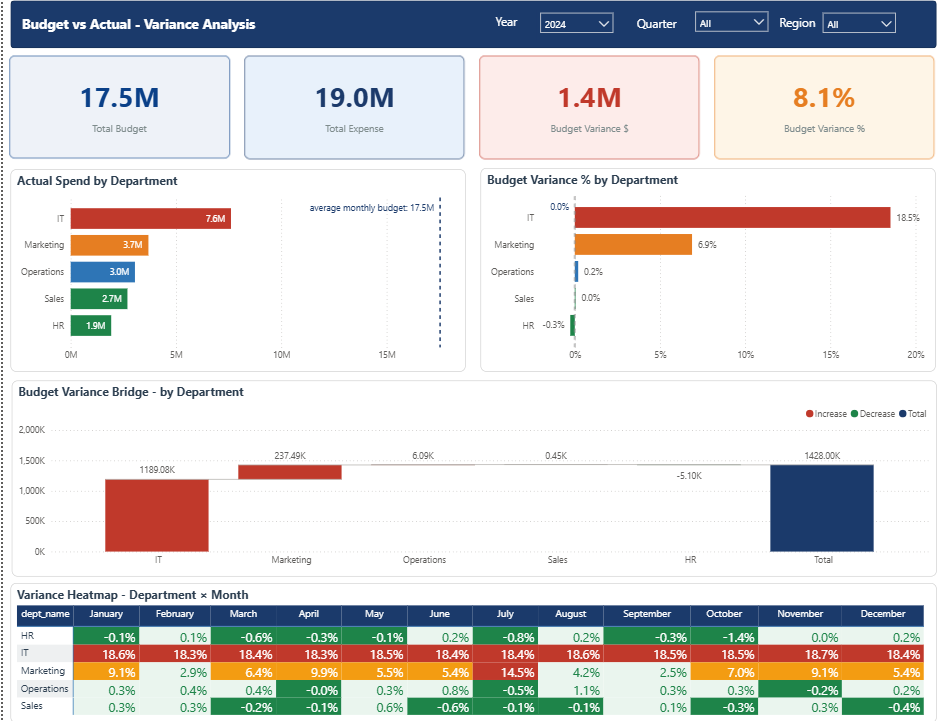

The page's visual inventory and layout, read from the dashboard file:
{"tool":"powerbi","page":{"name":"Budget vs Actual","canvas":[1280,1000],"ordinal":2},"visuals":[{"type":"shape","box":[9.8,11,1258.3,64.8],"z":0},{"type":"textbox","box":[20.4,23.8,441.6,40.8],"z":1000},{"type":"slicer","fields":{"Values":["production dim_date.year"]},"box":[725.2,22.1,108.7,44.2],"z":2000},{"type":"textbox","box":[664.1,22.1,61.1,34],"z":3000},{"type":"slicer","fields":{"Values":["production dim_region.region_name"]},"box":[1109.1,22,108.8,44],"z":4000},{"type":"textbox","box":[1049.2,24.5,62.4,33],"z":5000},{"type":"advanceCardE03760C5AB684758B56AA29F9E6C257B","fields":{"mainMeasure":["_Measures.Total Budget"]},"box":[8.4,84.3,300,140],"z":6000},{"type":"advanceCardE03760C5AB684758B56AA29F9E6C257B","title":"Total Actual Spend","fields":{"mainMeasure":["_Measures.Total Expense"]},"box":[328.2,84.3,299.6,140.6],"z":7000},{"type":"advanceCardE03760C5AB684758B56AA29F9E6C257B","fields":{"mainMeasure":["_Measures.Budget Variance $"]},"box":[647.6,84.3,299.6,140.6],"z":8000},{"type":"advanceCardE03760C5AB684758B56AA29F9E6C257B","fields":{"mainMeasure":["_Measures.Budget Variance %"]},"box":[967.1,84.3,299.6,140.6],"z":9000},{"type":"clusteredBarChart","title":"Actual Spend by Department","fields":{"Category":["production dim_department.dept_name"],"Y":["_Measures.Total Expense"]},"box":[10.2,239.5,618.2,275.1],"z":10000},{"type":"slicer","fields":{"Values":["production dim_date.quarter_name"]},"box":[936.6,19.9,108.8,44],"z":11000},{"type":"textbox","box":[856,25.5,79.8,32.3],"z":12000},{"type":"clusteredBarChart","title":"Budget Variance % by Department","fields":{"Category":["production dim_department.dept_name"],"Y":["_Measures.Budget Variance %"]},"box":[648.8,237.8,618.2,276.8],"z":13000},{"type":"pivotTable","title":"Variance Heatmap - Department × Month","fields":{"Rows":["production dim_department.dept_name"],"Columns":["production dim_date.month_name"],"Values":["_Measures.Budget Variance %"]},"box":[10.2,801.6,1258.5,190.2],"z":14000},{"type":"waterfallChart","title":"Budget Variance Bridge - by Department","fields":{"Category":["production dim_department.dept_name"],"Y":["_Measures.Budget Variance $"]},"box":[11.9,526.5,1256.8,266.6],"z":14001}]}

Visuals, with their boxes in screenshot pixels (x1, y1, x2, y2), scaled from the page's 1280x1000 canvas onto the 942x721 screenshot:
shape: [7, 8, 933, 55]
textbox: [15, 17, 340, 47]
slicer - production dim_date.year: [534, 16, 614, 48]
textbox: [489, 16, 534, 40]
slicer - production dim_region.region_name: [816, 16, 896, 48]
textbox: [772, 18, 818, 41]
advanceCardE03760C5AB684758B56AA29F9E6C257B - _Measures.Total Budget: [6, 61, 227, 162]
"Total Actual Spend" advanceCardE03760C5AB684758B56AA29F9E6C257B: [242, 61, 462, 162]
advanceCardE03760C5AB684758B56AA29F9E6C257B - _Measures.Budget Variance $: [477, 61, 697, 162]
advanceCardE03760C5AB684758B56AA29F9E6C257B - _Measures.Budget Variance %: [712, 61, 932, 162]
"Actual Spend by Department" clusteredBarChart: [8, 173, 462, 371]
slicer - production dim_date.quarter_name: [689, 14, 769, 46]
textbox: [630, 18, 689, 42]
"Budget Variance % by Department" clusteredBarChart: [477, 171, 932, 371]
"Variance Heatmap - Department × Month" pivotTable: [8, 578, 934, 715]
"Budget Variance Bridge - by Department" waterfallChart: [9, 380, 934, 572]
